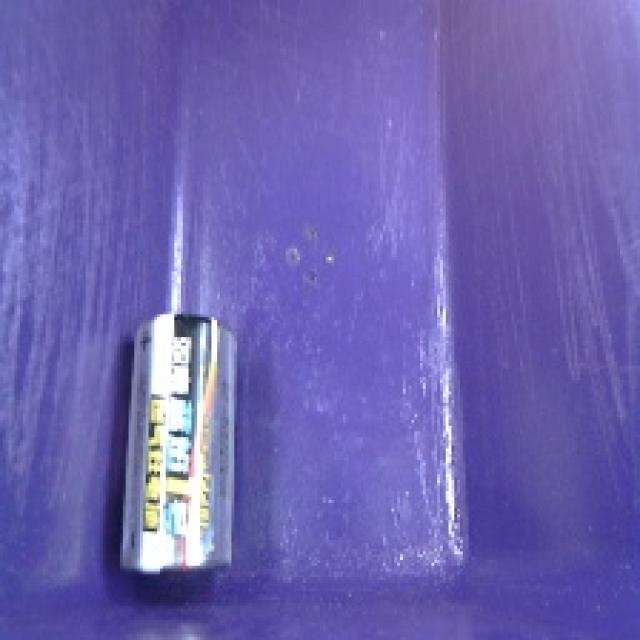battery: (109, 304, 247, 590)
